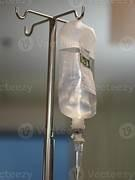Iv_Bottle: (58, 20, 95, 128)
